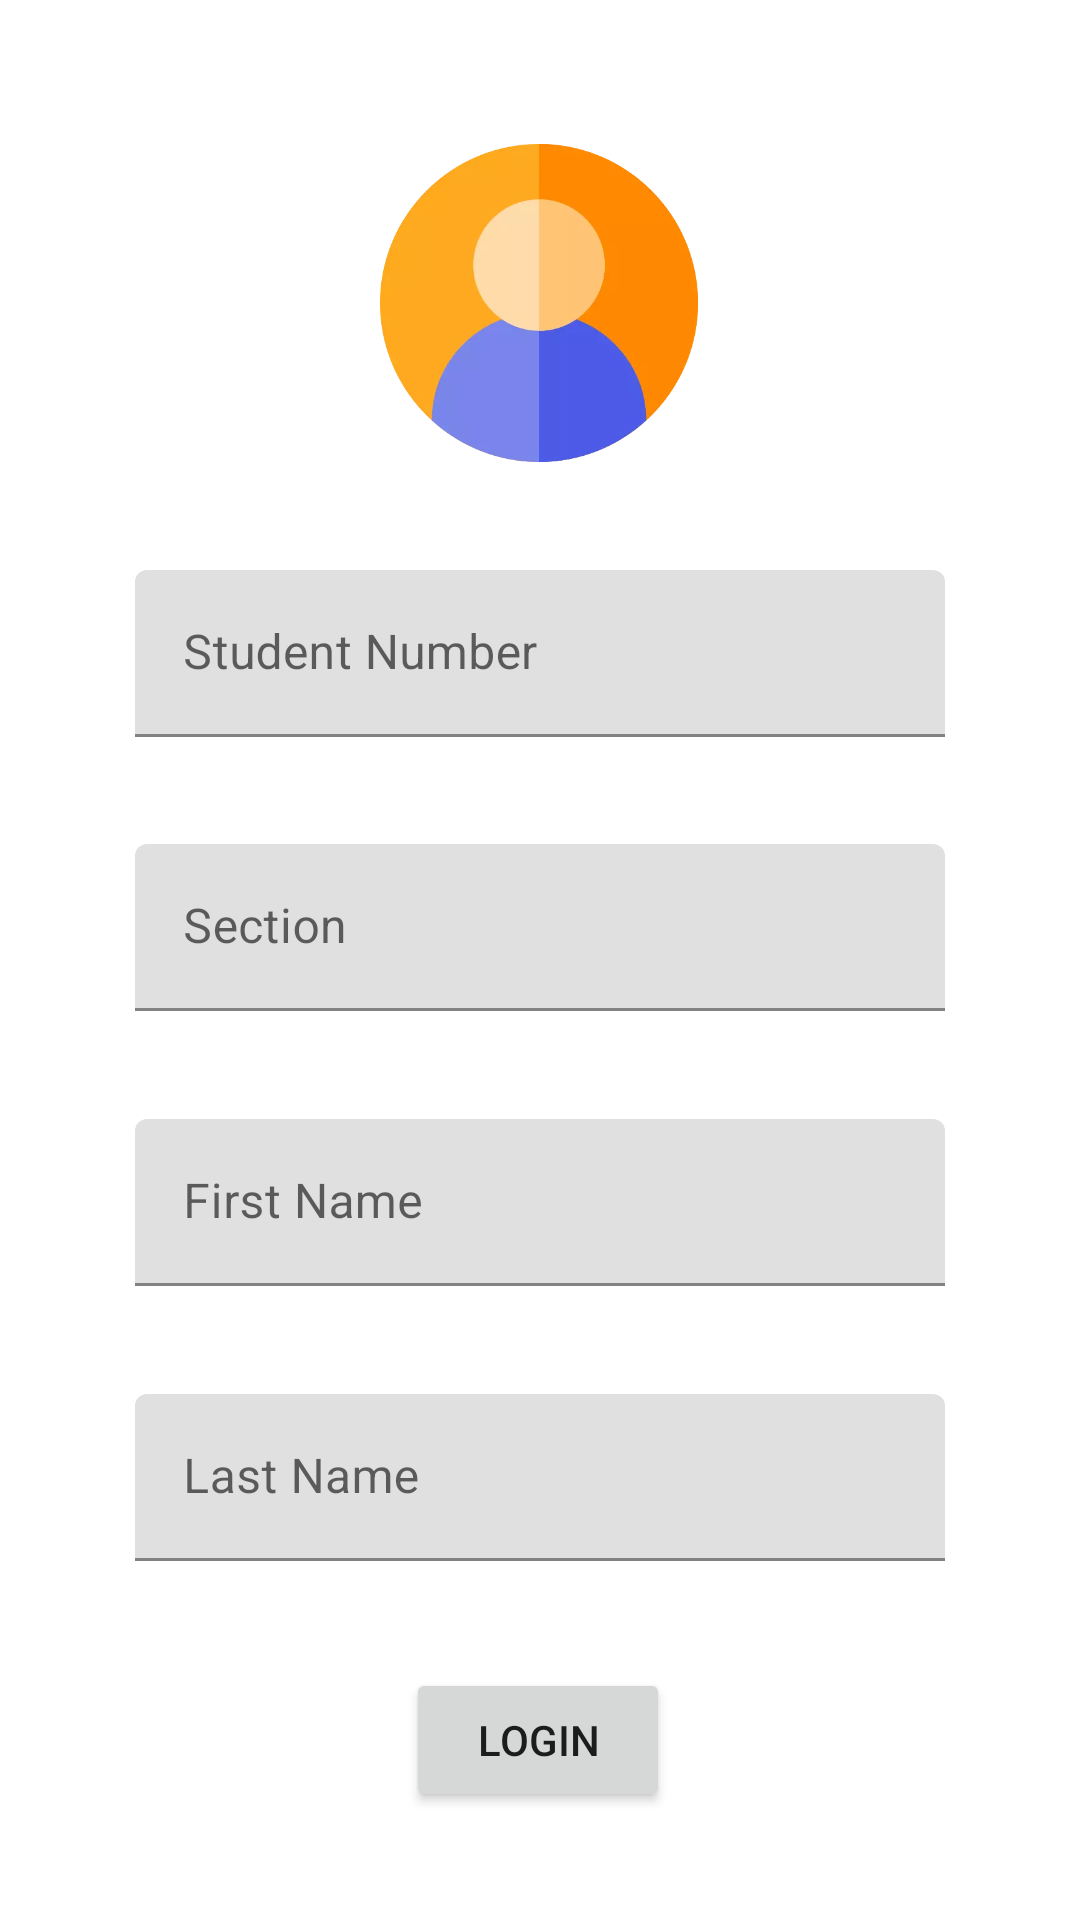

Point at icon controls on the screen. Image size 1080 × 1920, points as [x,y].
user: [539,303]
